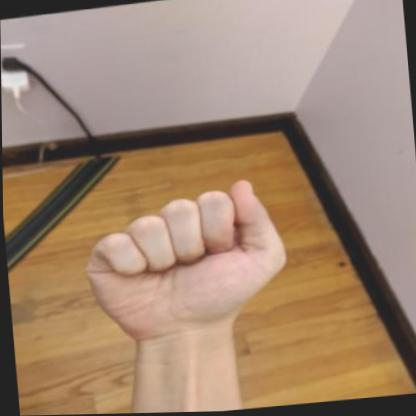A: (69, 171, 299, 355)
